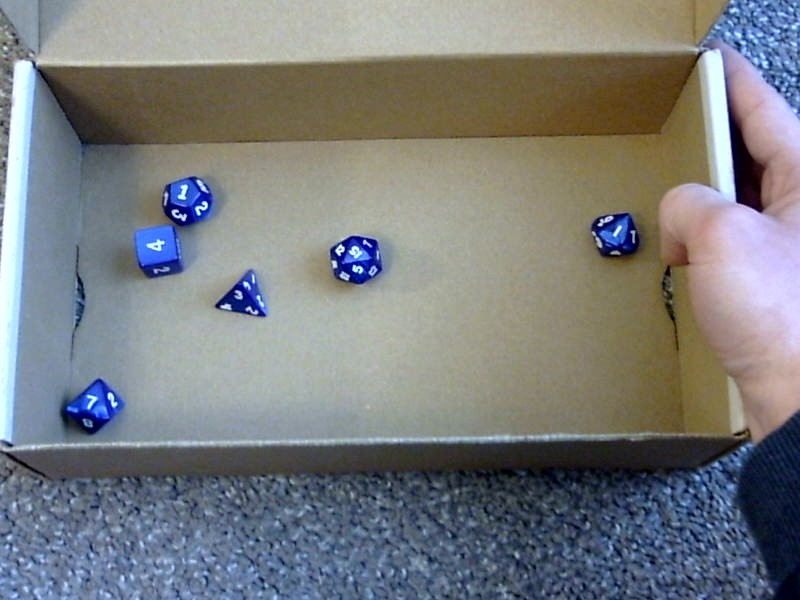d10 1: (578, 205, 641, 260)
d12 1: (159, 167, 213, 227)
d20 15: (322, 225, 384, 287)
d4 3: (212, 261, 268, 321)
d6 4: (127, 223, 187, 279)
d8 7: (58, 373, 126, 434)
